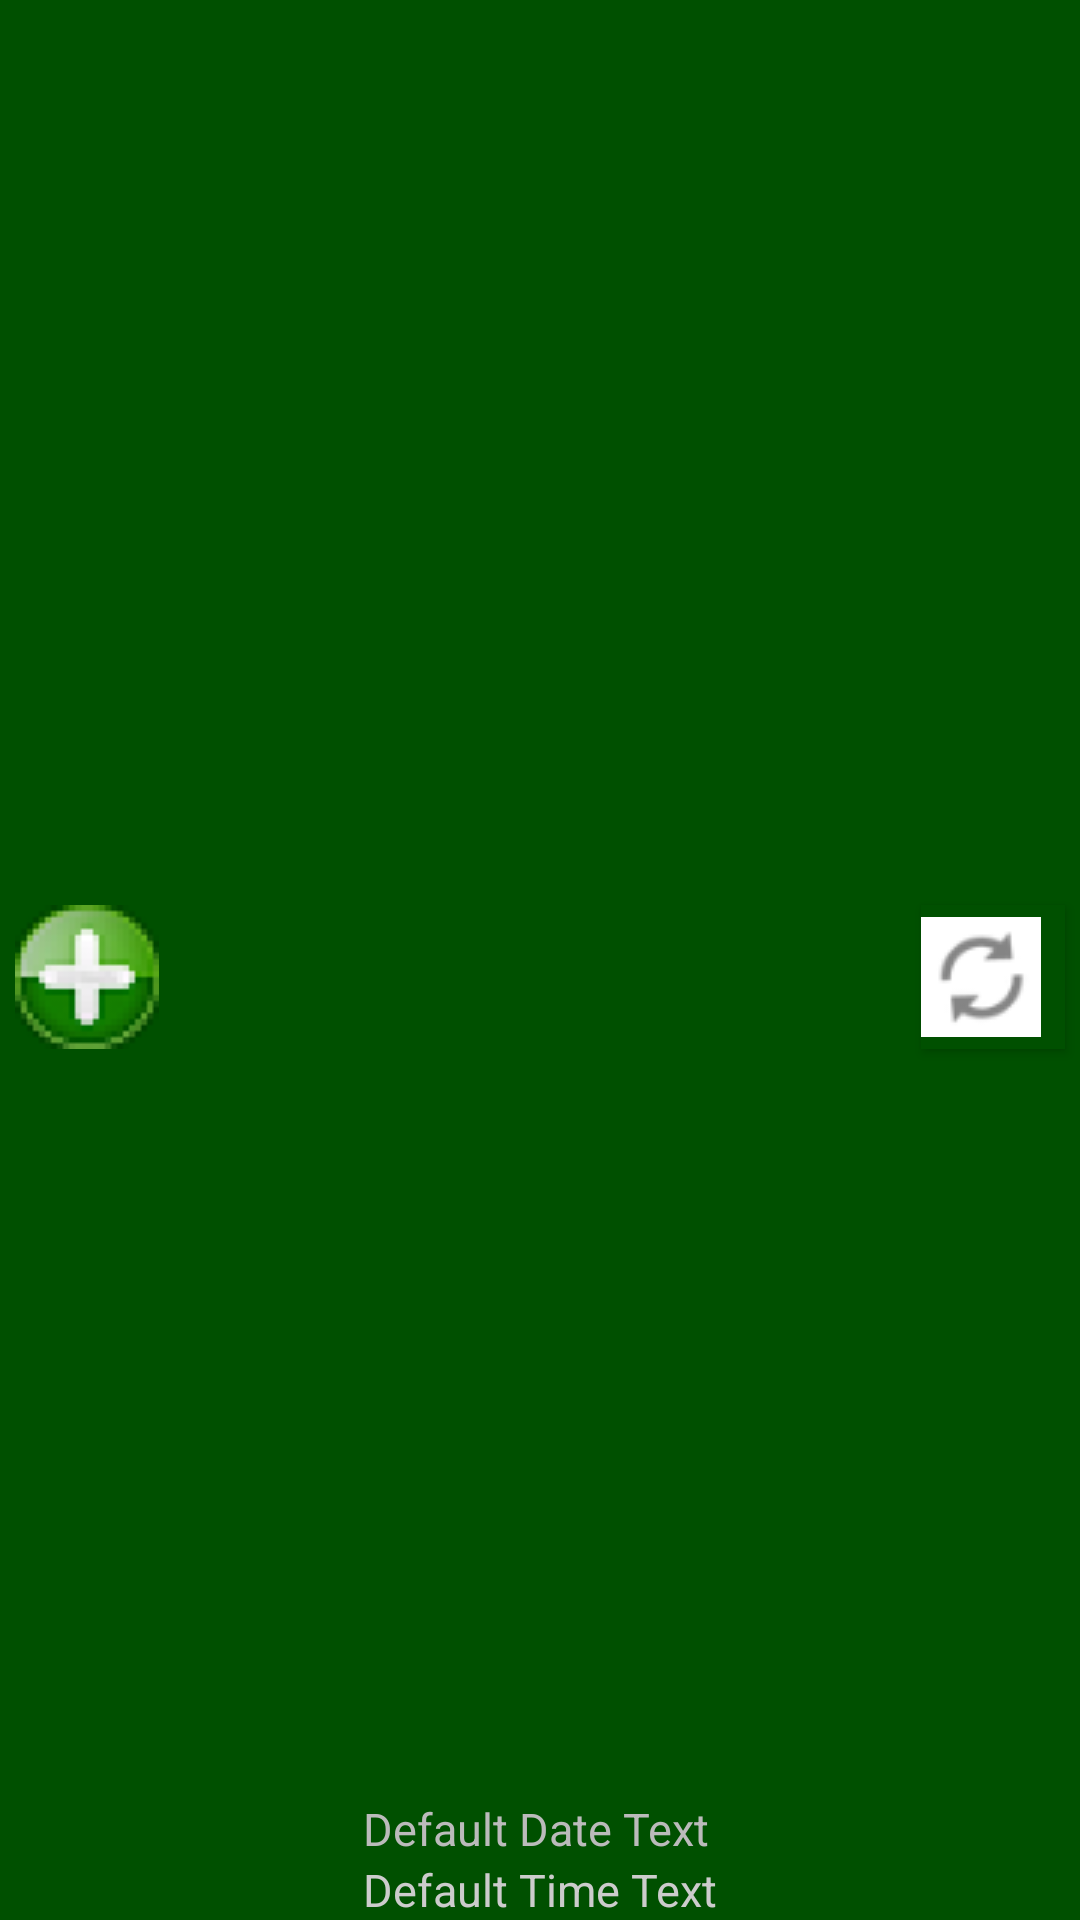

Where to tap for icons on this 1080 x 1920 app screen, as (x=x, y=y):
Add a new Stock Symbol: (x=87, y=977)
